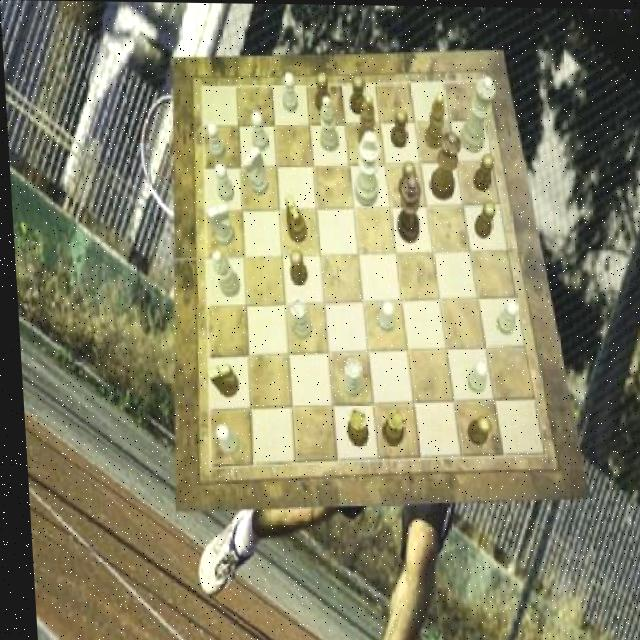bishop: (421, 91, 446, 149), (355, 94, 375, 150)
black-bishop: (394, 171, 422, 244)
black-king: (203, 362, 234, 397), (283, 193, 305, 242)
black-knight: (470, 152, 495, 189), (471, 199, 495, 237), (462, 415, 488, 444), (388, 109, 407, 148), (395, 160, 414, 197), (313, 73, 331, 112), (348, 75, 366, 113), (285, 249, 304, 284)
black-pawn: (424, 131, 463, 201)
black-queen: (340, 407, 364, 446), (376, 409, 401, 445)
black-rook: (209, 250, 238, 297), (318, 94, 338, 149)
white-bishop: (351, 130, 382, 205)
white-king: (240, 146, 267, 195), (206, 202, 233, 245)
white-knight: (492, 298, 517, 333), (211, 423, 235, 456), (462, 359, 485, 393), (204, 121, 224, 159), (212, 162, 231, 201), (250, 110, 267, 151), (280, 72, 297, 112), (373, 301, 392, 334)
white-pawn: (457, 75, 498, 152)
white-queen: (287, 297, 310, 339), (335, 357, 359, 396)
